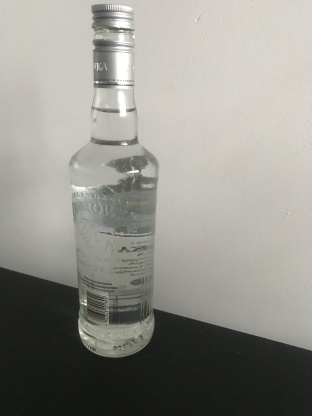nakretka: (90, 3, 136, 89)
